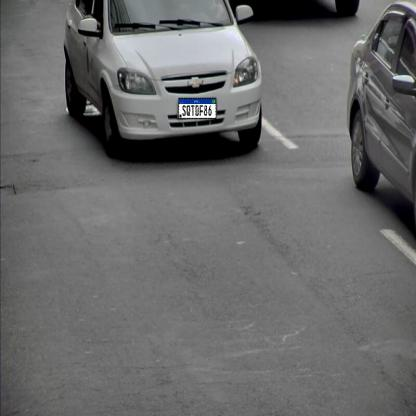PlacaM: (178, 98, 216, 119)
